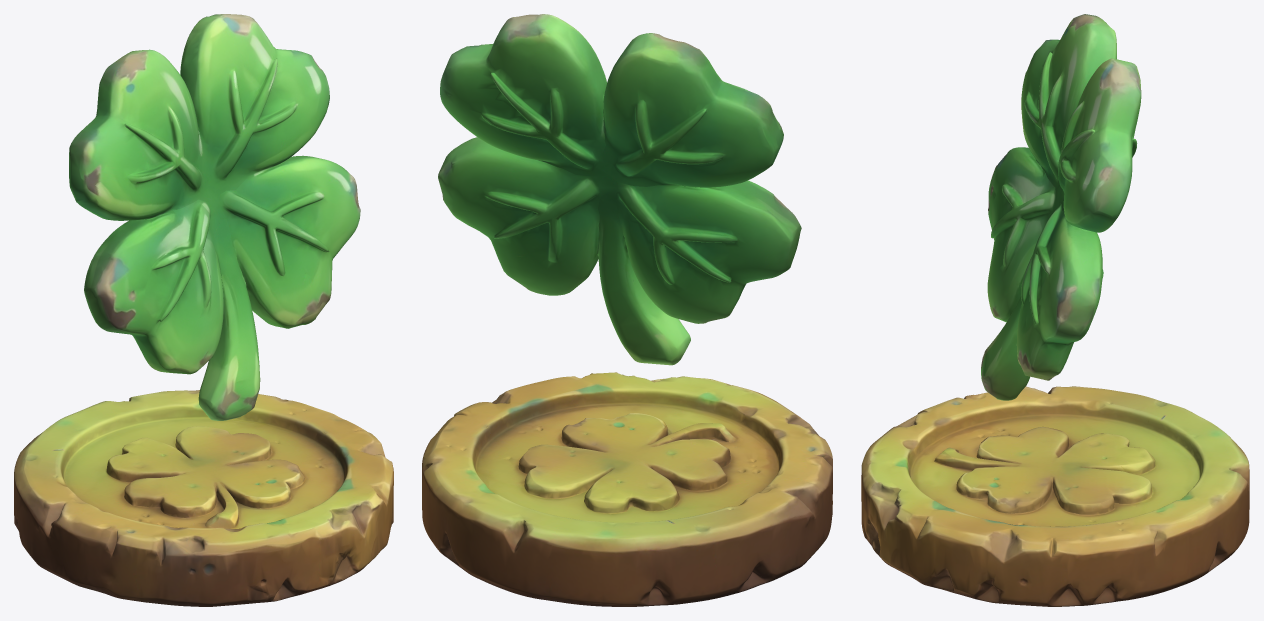
The model's file is clover_pickup.glb.
3 views of the same model, side by side, from view 1: azimuth 30°, elevation 25°; view 2: azimuth 150°, elevation 25°; view 3: azimuth 270°, elevation 25° (orthographic). The views are drawn at different scales.
Visible parts, largest first — view 1: tripo_part_0, tripo_part_5, tripo_part_1, tripo_part_4, tripo_part_3, tripo_part_2, tripo_part_6; view 2: tripo_part_0, tripo_part_4, tripo_part_5, tripo_part_1, tripo_part_3, tripo_part_2, tripo_part_6; view 3: tripo_part_0, tripo_part_2, tripo_part_5, tripo_part_3, tripo_part_4, tripo_part_1, tripo_part_6.
Boxes of the visible parts, x1,y1,x2,y2 form: tripo_part_0: [14, 390, 393, 606]; tripo_part_5: [180, 14, 329, 219]; tripo_part_1: [84, 199, 223, 374]; tripo_part_4: [69, 49, 208, 220]; tripo_part_3: [219, 155, 360, 328]; tripo_part_2: [106, 426, 304, 528]; tripo_part_6: [198, 219, 260, 420]; tripo_part_0: [422, 372, 832, 606]; tripo_part_4: [602, 33, 783, 187]; tripo_part_5: [440, 14, 611, 177]; tripo_part_1: [600, 180, 801, 323]; tripo_part_3: [438, 137, 617, 295]; tripo_part_2: [518, 413, 735, 514]; tripo_part_6: [597, 199, 690, 365]; tripo_part_0: [861, 386, 1249, 606]; tripo_part_2: [934, 426, 1155, 514]; tripo_part_5: [1054, 58, 1141, 232]; tripo_part_3: [1016, 202, 1103, 380]; tripo_part_4: [1021, 14, 1116, 196]; tripo_part_1: [987, 147, 1055, 322]; tripo_part_6: [981, 296, 1029, 400].
Bounding box in the file's own units: 0.7071 × 0.9791 × 0.7037.
Materials: 1 (1 with a texture image).
